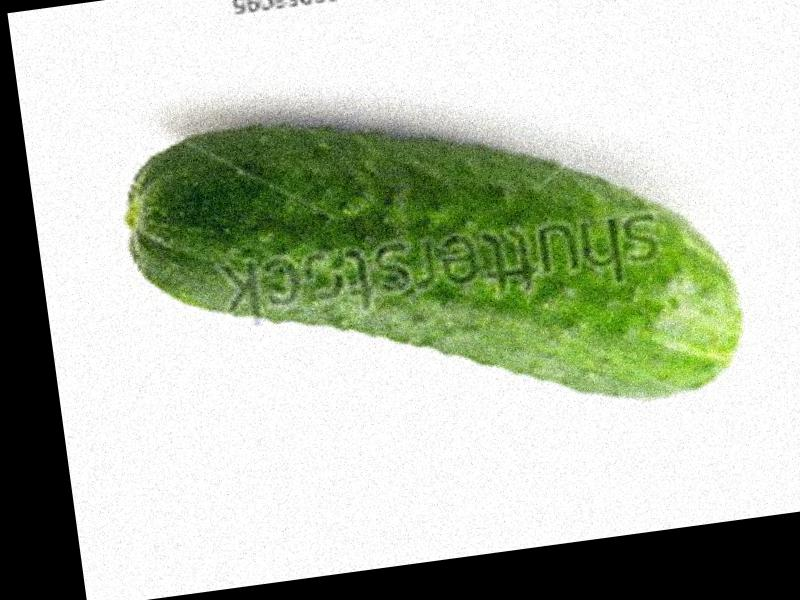Cucumber: (116, 62, 750, 466)
